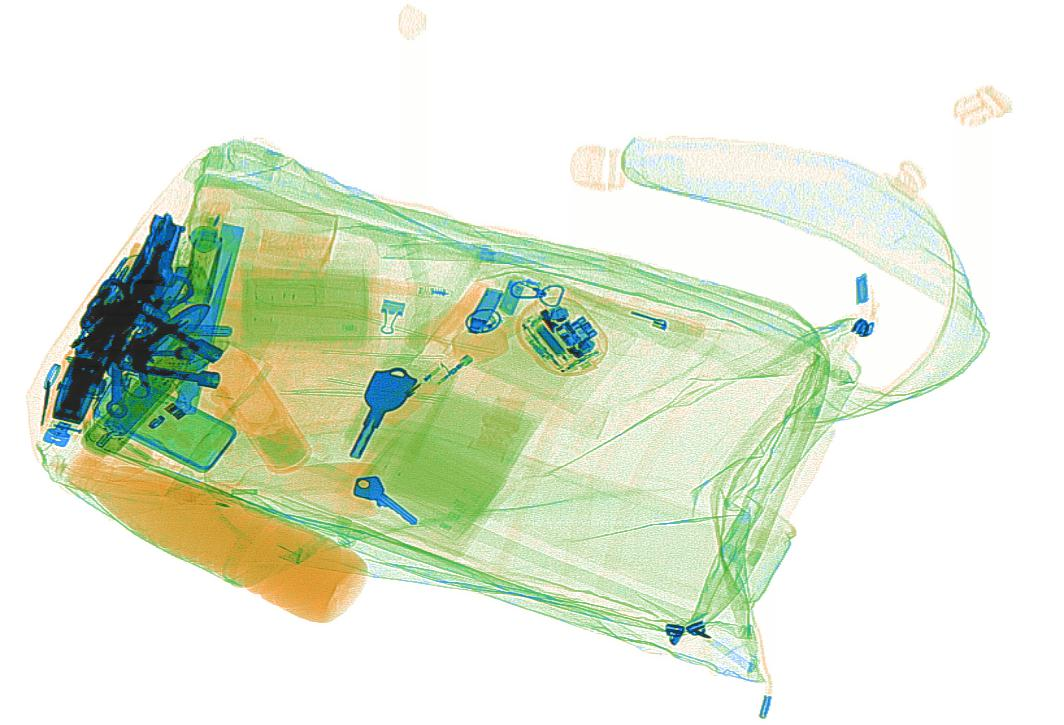battery: (102, 373, 168, 437)
lighter: (375, 345, 476, 431)
plasticBottleWithaNozzle: (169, 459, 384, 519)
